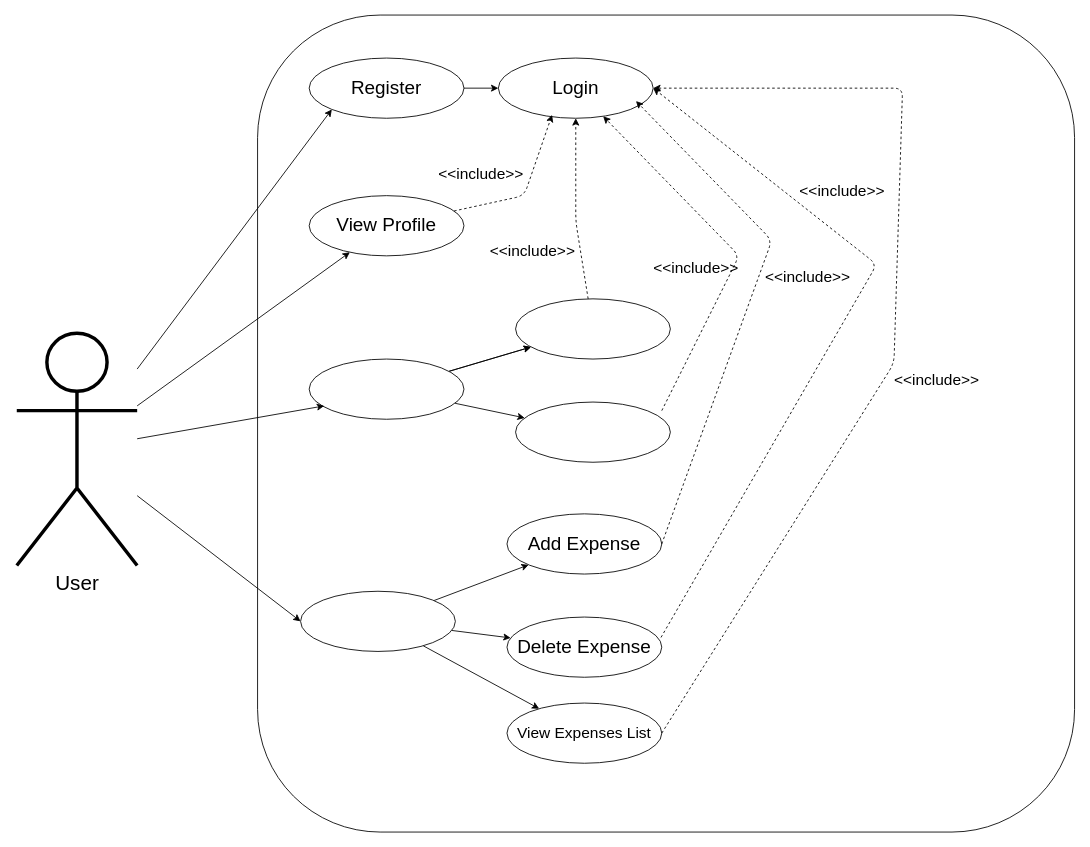
Some shapes in this 1090 by 847 pixel diagram are drawn without their labels. Here are the shapes that lost their labels. From the top down, the centre of each, then its label:
At pixel 592 328: "View Remaining Balance".
At pixel 386 388: "View Wallet".
At pixel 592 431: "Set Monthly Budget".
At pixel 377 620: "manage Expense".
